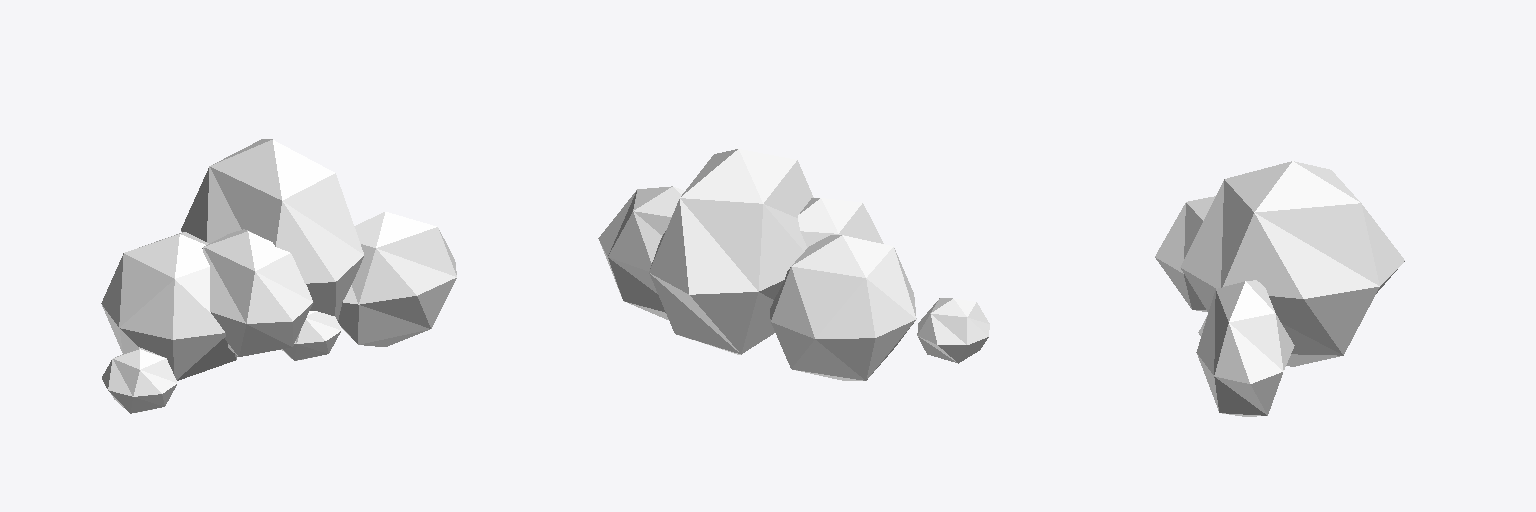
The model's file is cloud2.obj.
3 views of the same model, side by side, from view 1: azimuth 30°, elevation 25°; view 2: azimuth 150°, elevation 25°; view 3: azimuth 270°, elevation 25° (orthographic).
Parts seen in each view (by area): view 1: GeoSphere007 Mesh, GeoSphere006 Mesh, GeoSphere010 Mesh, GeoSphere009 Mesh, GeoSphere008 Mesh, GeoSphere011 Mesh; view 2: GeoSphere007 Mesh, GeoSphere006 Mesh, GeoSphere010 Mesh, GeoSphere008 Mesh, GeoSphere009 Mesh; view 3: GeoSphere007 Mesh, GeoSphere010 Mesh, GeoSphere009 Mesh.
Boxes of the visible parts, <box> form: GeoSphere007 Mesh: <box>181,139,363,320</box>; GeoSphere006 Mesh: <box>101,232,237,380</box>; GeoSphere010 Mesh: <box>338,212,456,346</box>; GeoSphere009 Mesh: <box>202,229,313,356</box>; GeoSphere008 Mesh: <box>102,347,177,413</box>; GeoSphere011 Mesh: <box>281,311,341,360</box>; GeoSphere007 Mesh: <box>649,149,813,354</box>; GeoSphere006 Mesh: <box>770,235,916,380</box>; GeoSphere010 Mesh: <box>598,186,684,319</box>; GeoSphere008 Mesh: <box>917,298,989,363</box>; GeoSphere009 Mesh: <box>798,198,883,247</box>; GeoSphere007 Mesh: <box>1180,161,1404,366</box>; GeoSphere010 Mesh: <box>1196,280,1294,416</box>; GeoSphere009 Mesh: <box>1155,196,1215,311</box>.
Bounding box in the file's own units: 158 × 87.06 × 93.07.